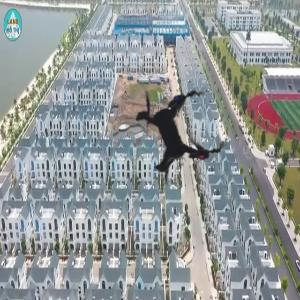drone: (86, 44, 260, 218)
